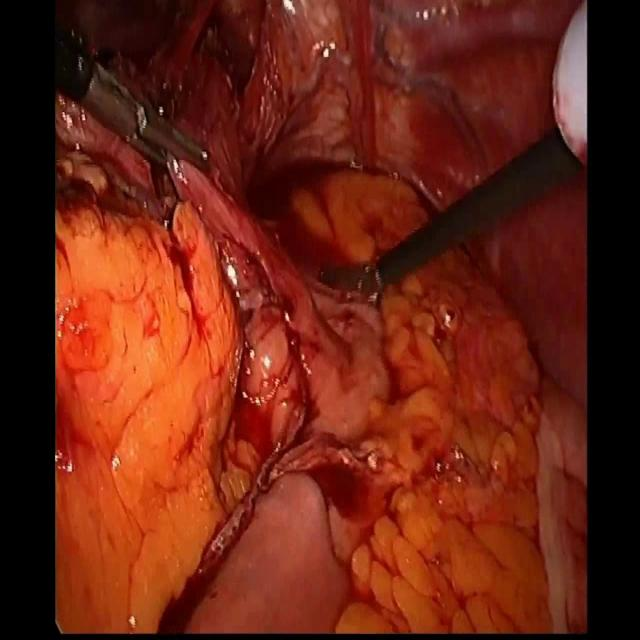surgical-area: (55, 0, 587, 635)
surgical-tool: (320, 0, 587, 296), (56, 20, 209, 172)
